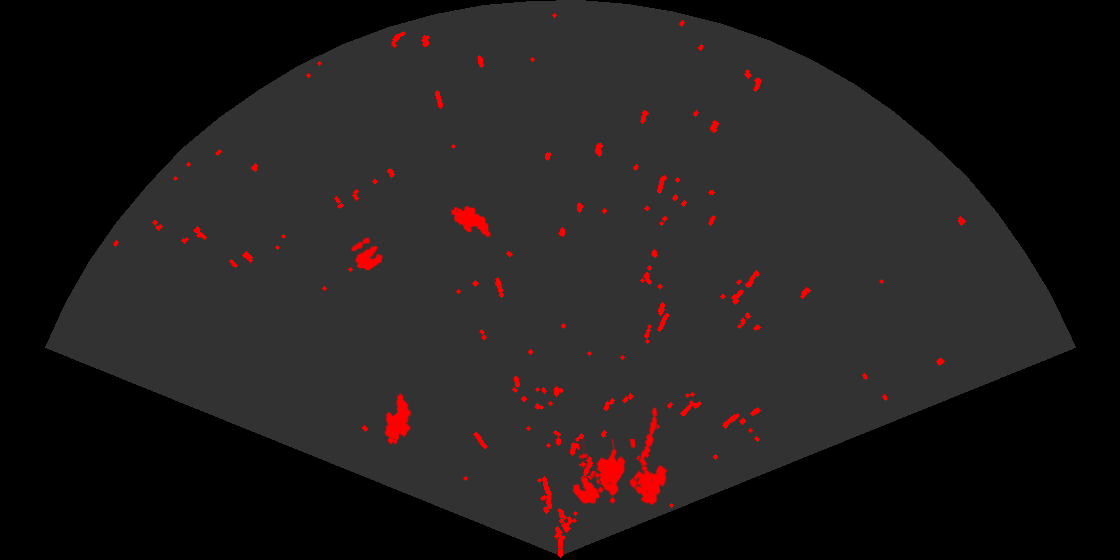AUV: (383, 392, 412, 446), (449, 204, 492, 238)
ball: (571, 469, 608, 505), (349, 236, 385, 272)
cage: (579, 439, 669, 507)
chain: (632, 406, 659, 490)
